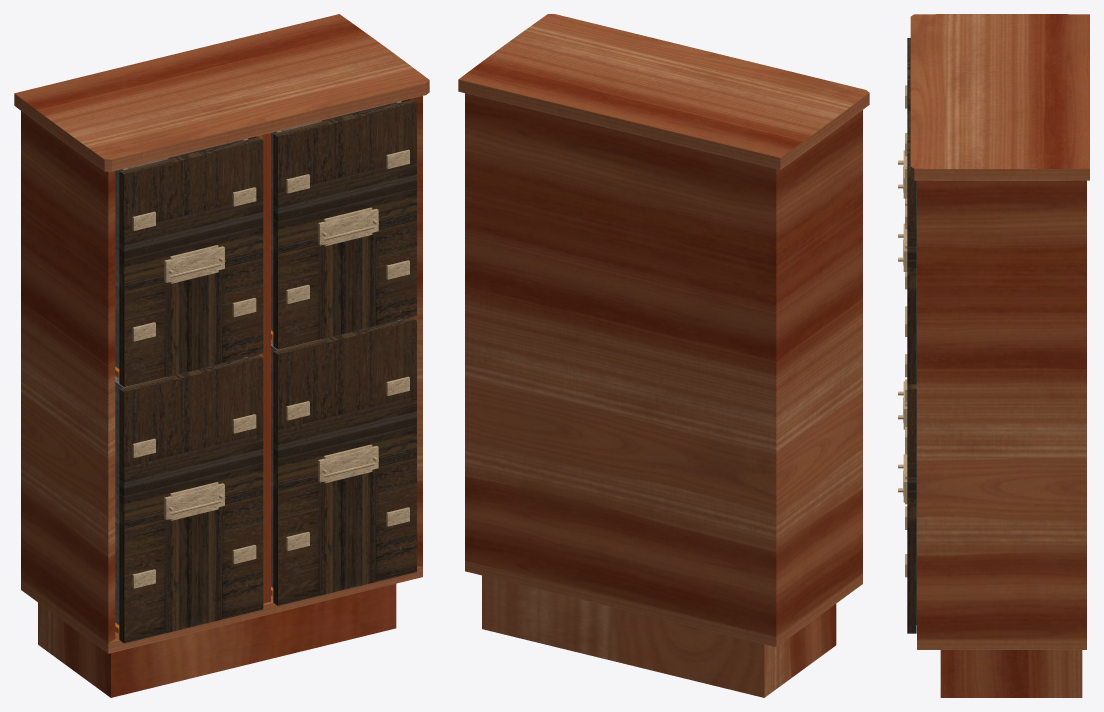
Rendered from drawer_cabinet_with_sliding_drawers__0016.glb.
3 views of the same model, side by side, from view 1: azimuth 30°, elevation 25°; view 2: azimuth 150°, elevation 25°; view 3: azimuth 270°, elevation 25° (orthographic). The views are drawn at different scales.
Visible parts, largest first — view 1: carcass::body_form__rect_case__case_shell, drawer_front__applique_moulded__drawer_0::drawer_front__appl (×3), drawer_front__applique_moulded__drawer_1::drawer_front__appl (×3), carcass::body_form__rect_case__top_slab, drawer_front__applique_moulded__drawer_2::drawer_front__appl (×3), drawer_front__applique_moulded__drawer_3::drawer_front__appl (×2), carcass::support_base__toe_kick_plinth__toe_kick_box, carcass::body_form__rect_case__base_panel, carcass::drawer_layout__paired_grid__centre_divider_0, carcass::drawer_layout__paired_grid__centre_divider_1; view 2: carcass::body_form__rect_case__case_shell, carcass::body_form__rect_case__top_slab, carcass::support_base__toe_kick_plinth__toe_kick_box, carcass::body_form__rect_case__base_panel; view 3: carcass::body_form__rect_case__case_shell, carcass::body_form__rect_case__top_slab, carcass::support_base__toe_kick_plinth__toe_kick_box, drawer_front__applique_moulded__drawer_1::drawer_front__appl, drawer_front__applique_moulded__drawer_3::drawer_front__appl, carcass::body_form__rect_case__base_panel.
Boxes of the visible parts, box(x1,y1,x2,y2) form: carcass::body_form__rect_case__case_shell: box(21, 96, 422, 643); drawer_front__applique_moulded__drawer_0::drawer_front__appl (×3): box(115, 355, 263, 643); drawer_front__applique_moulded__drawer_1::drawer_front__appl (×3): box(271, 317, 416, 605); carcass::body_form__rect_case__top_slab: box(14, 14, 429, 171); drawer_front__applique_moulded__drawer_2::drawer_front__appl (×3): box(115, 137, 263, 387); drawer_front__applique_moulded__drawer_3::drawer_front__appl (×2): box(273, 99, 416, 349); carcass::support_base__toe_kick_plinth__toe_kick_box: box(38, 583, 396, 697); carcass::body_form__rect_case__base_panel: box(21, 566, 422, 653); carcass::drawer_layout__paired_grid__centre_divider_0: box(248, 347, 270, 603); carcass::drawer_layout__paired_grid__centre_divider_1: box(248, 133, 270, 349); carcass::body_form__rect_case__case_shell: box(465, 93, 862, 636); carcass::body_form__rect_case__top_slab: box(458, 14, 869, 169); carcass::support_base__toe_kick_plinth__toe_kick_box: box(482, 575, 836, 697); carcass::body_form__rect_case__base_panel: box(465, 561, 862, 647); carcass::body_form__rect_case__case_shell: box(917, 180, 1086, 639); carcass::body_form__rect_case__top_slab: box(910, 14, 1089, 180); carcass::support_base__toe_kick_plinth__toe_kick_box: box(940, 650, 1082, 697); drawer_front__applique_moulded__drawer_1::drawer_front__appl: box(907, 384, 916, 633); drawer_front__applique_moulded__drawer_3::drawer_front__appl: box(907, 111, 916, 384); carcass::body_form__rect_case__base_panel: box(917, 639, 1086, 649).
Size of the model in its own units: 0.779 by 1.26 by 0.4076.
5 materials, 5 textured.
